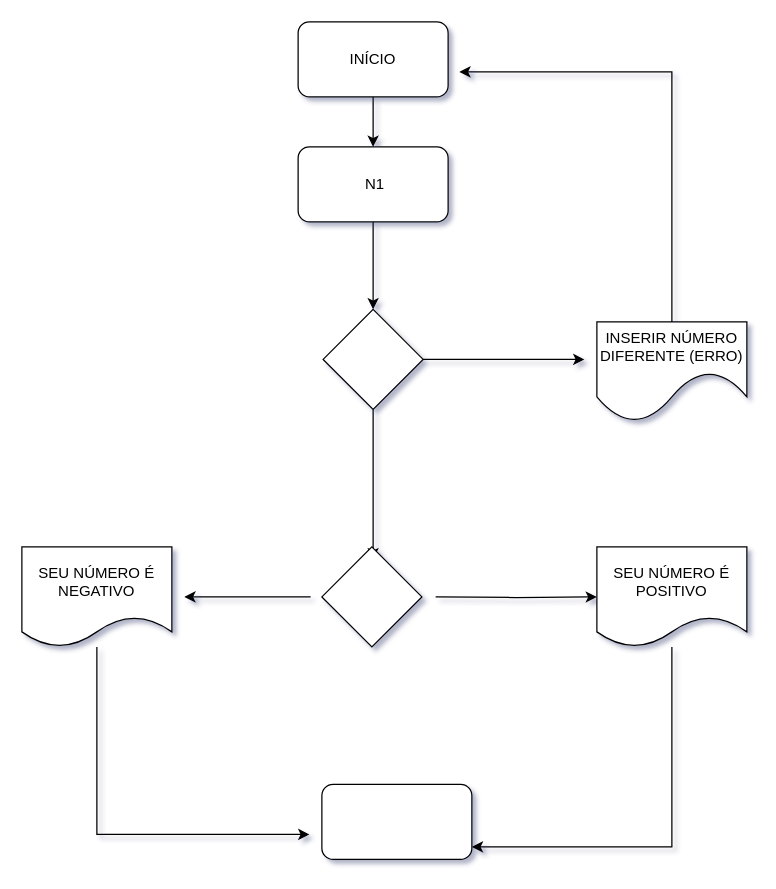
Image size: 776x889. Some labels were removed from this diagram. Here are the shapes that lost their labels. From the top down, the centre of each, then its label:
[372,358]: NÚMERO == 0
[371,596]: NÚMERO >0
[396,821]: FIM
